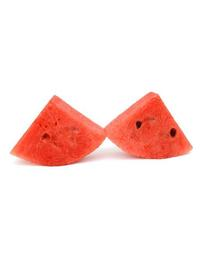watermelon: (8, 87, 195, 167)
